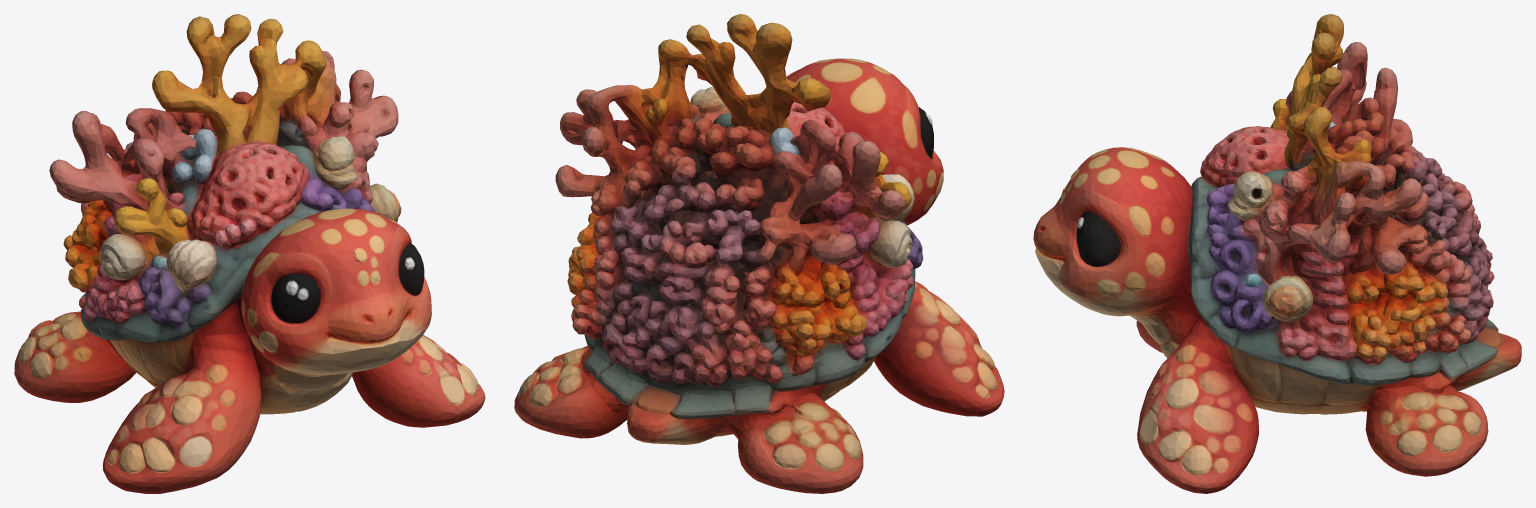
Rendered from reefback_turtle_raw.glb.
3 renders of one model, left to right at view 1: azimuth 30°, elevation 25°; view 2: azimuth 150°, elevation 25°; view 3: azimuth 270°, elevation 25°, orthographic. The views are drawn at different scales.
Parts seen in each view (by area): view 1: world; view 2: world; view 3: world.
Part boxes in pixels (box(x1,y1,x2,y2)): world: box(14, 14, 485, 493); world: box(514, 14, 1004, 493); world: box(1033, 14, 1521, 493).
Bounding box in the file's own units: 0.8623 × 0.8648 × 1.
Materials: 1 (1 with a texture image).
